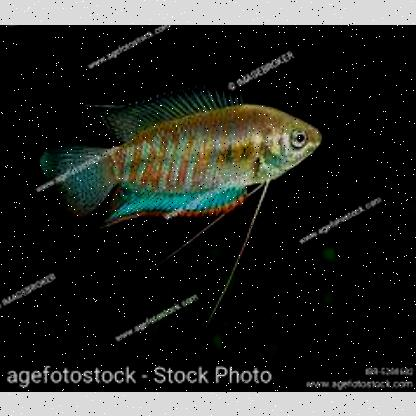gurame: (47, 95, 327, 219)
